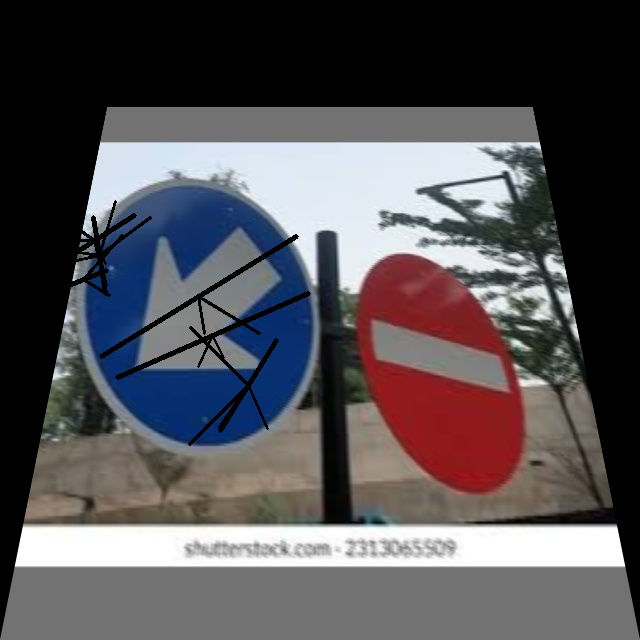Compulsory_Keep_Left: (53, 183, 326, 431)
